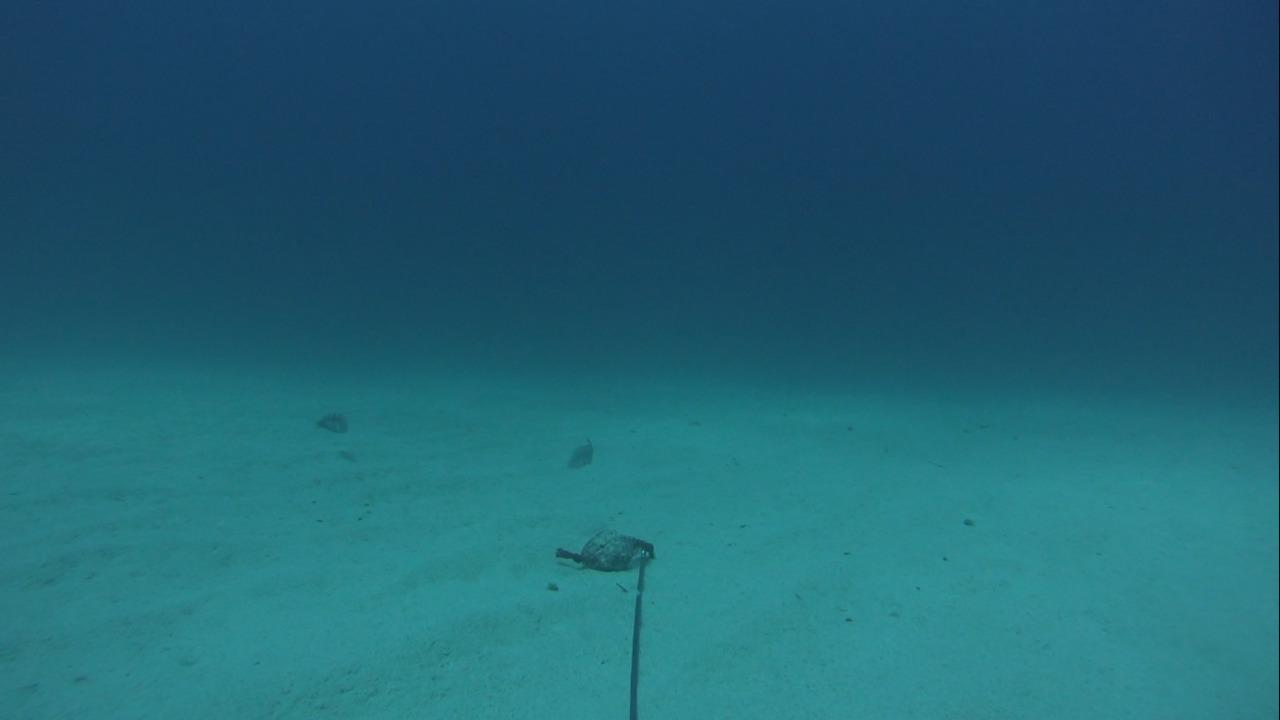raor: (559, 430, 597, 468), (304, 408, 349, 434)
